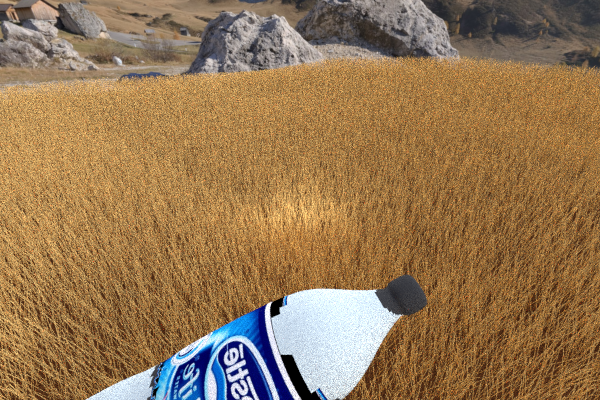Plastic Bottle: (4, 274, 427, 400), (360, 96, 386, 124)
